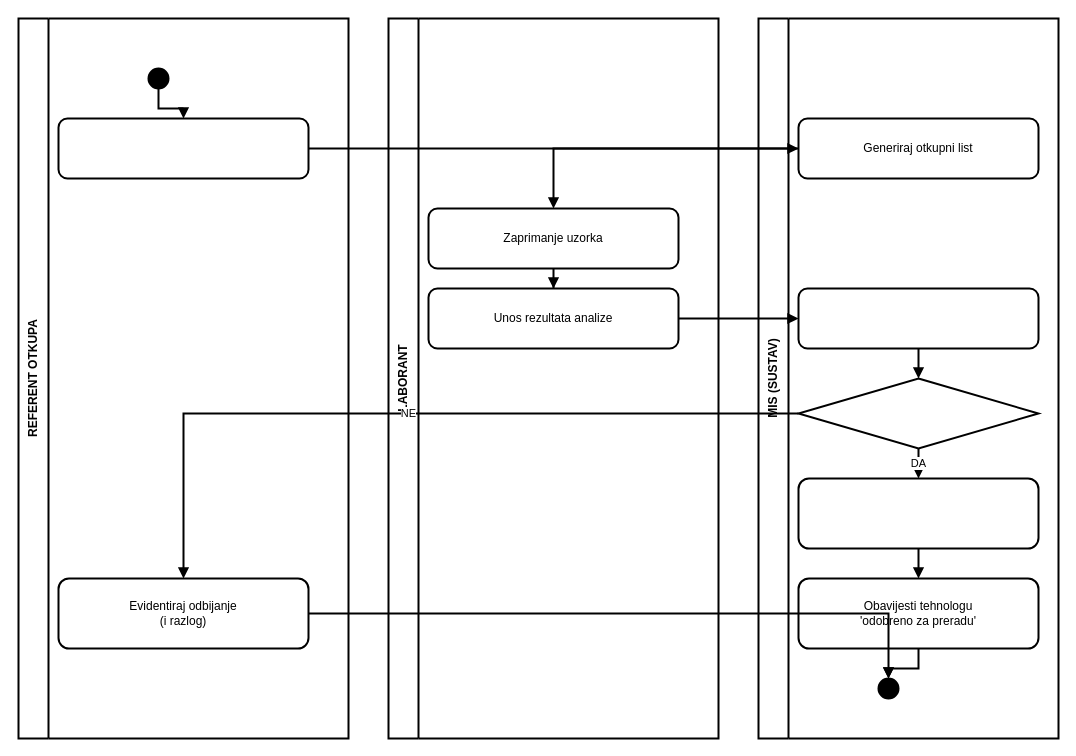
Some shapes in this 1076 by 756 pixel diagram are drawn without their labels. The shapes that lost their labels are listed below. From the top down, each one's box as (x1, y1, x2, y2) in pixels, then its label:
(57, 117, 309, 179): Unos isporuke mlijeka (količina, temp., kooperant)
(797, 287, 1039, 349): Provjera graničnih vrijednosti
(797, 377, 1039, 449): Odluka: prihvatiti mlijeko?
(797, 477, 1039, 549): Ažuriraj status isporuke + korekcija cijene
